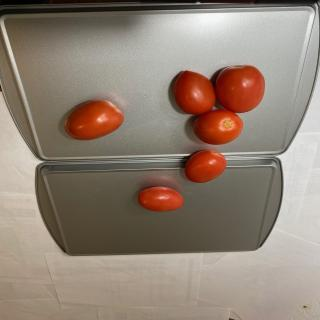Tomato: (64, 100, 124, 140), (215, 65, 265, 113), (173, 70, 216, 115), (193, 109, 243, 145), (184, 149, 227, 183), (138, 186, 185, 212)
